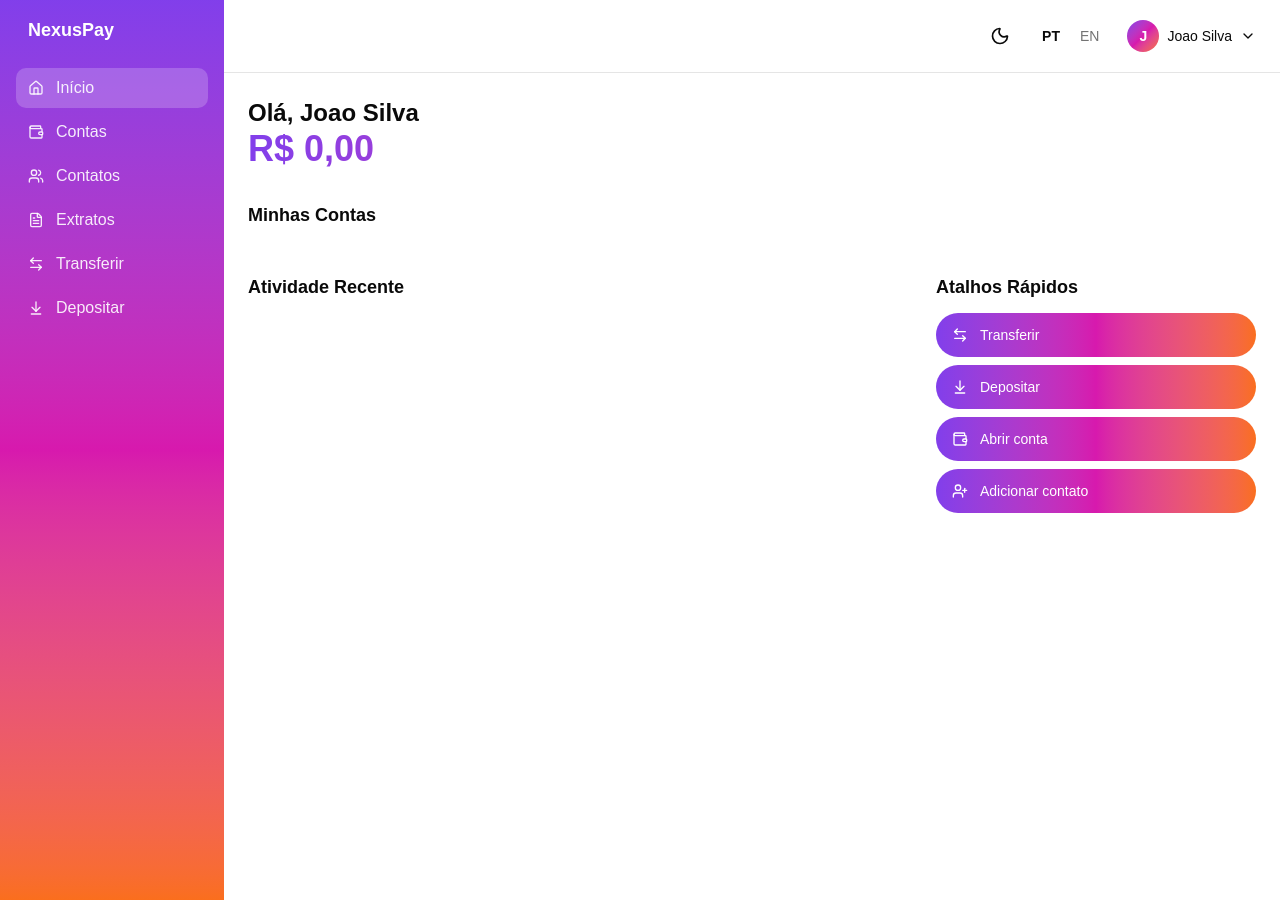
Test: roteamento › trocar o idioma troca o texto visivel
Expected: the heading "Olá, Joao Silva" is shown, x1=248 y1=99 x2=419 y2=126
Click the button "EN" at [1090, 36], box x1=1072 y1=22 x2=1108 y2=50
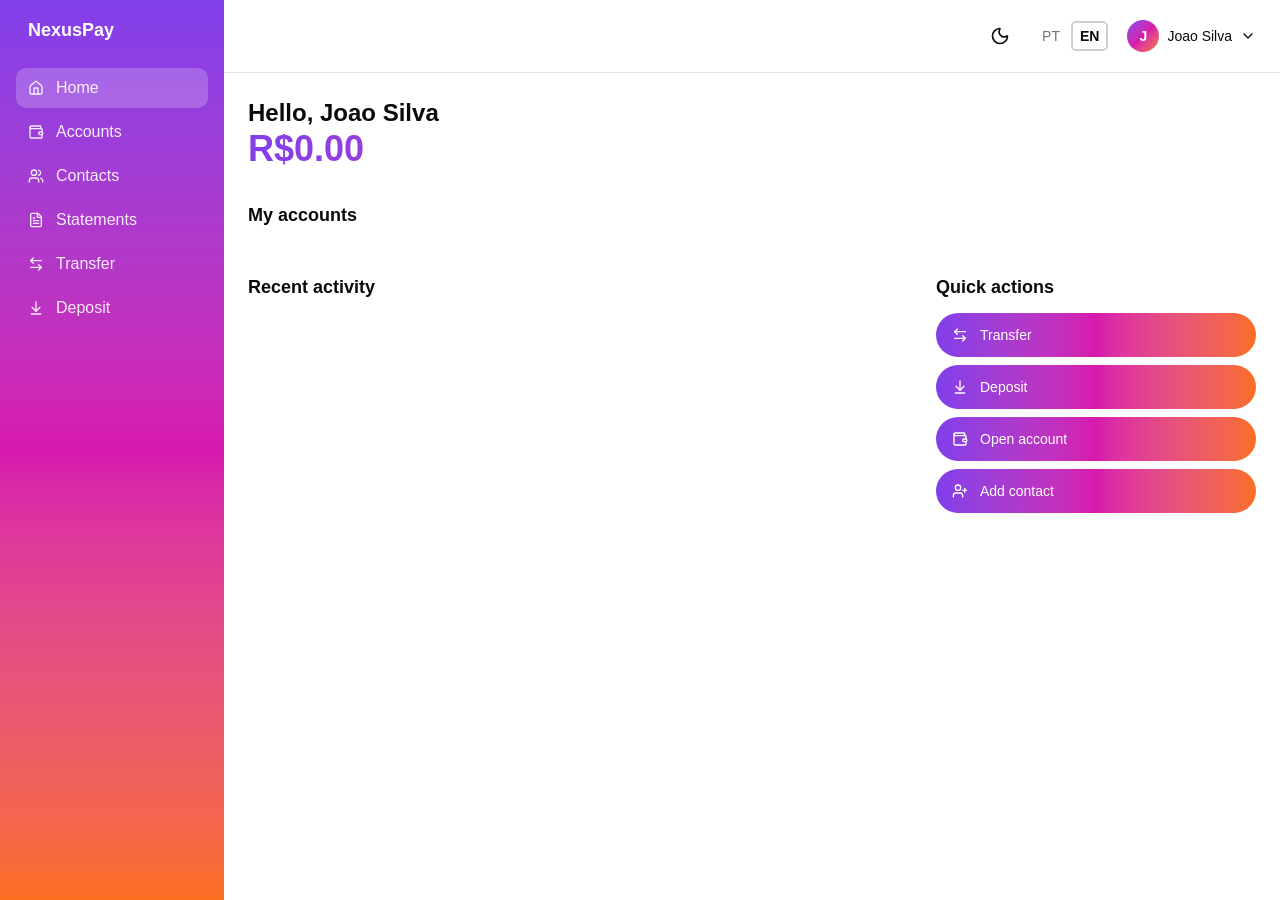
Expected: the heading "Hello, Joao Silva" is shown, x1=248 y1=99 x2=439 y2=126
